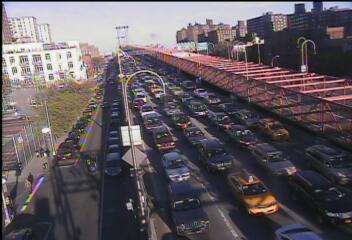neg: (254, 148, 277, 178), (211, 95, 234, 124), (63, 139, 81, 162), (285, 38, 302, 61), (170, 113, 186, 134), (94, 98, 109, 119), (325, 21, 340, 40), (318, 83, 331, 100), (46, 160, 58, 176)
pos: (24, 169, 39, 190), (37, 146, 45, 156)
